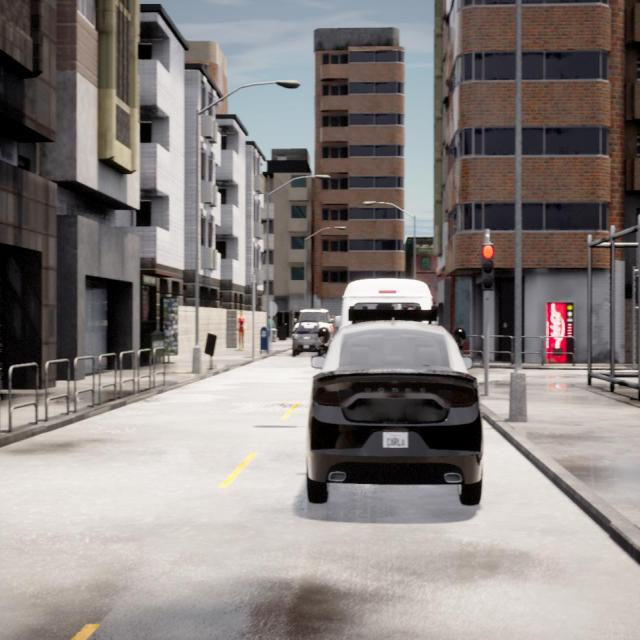Pedestrian: (238, 310, 246, 349)
Traffic_Signs: (268, 302, 278, 316)
Vehicle: (308, 323, 482, 502), (342, 279, 433, 317), (294, 309, 330, 355)
traffic_light: (481, 244, 495, 290)
